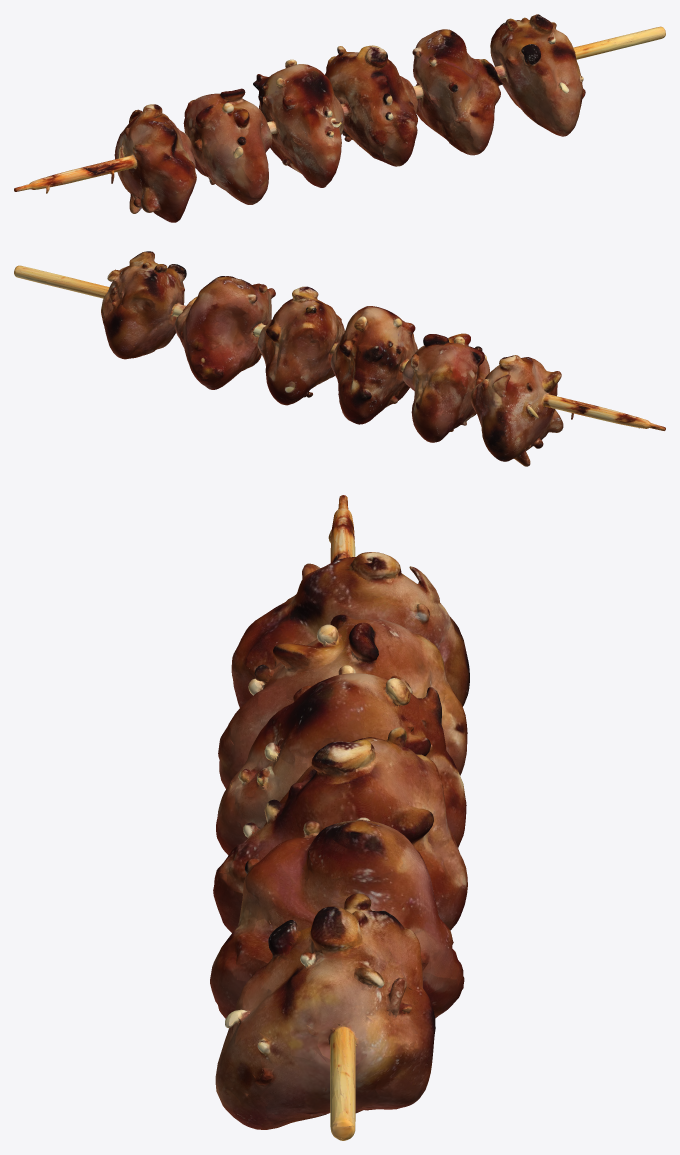
Rendered from chicken-heart-skewer.glb.
The picture shows the model from 3 angles, top to bottom: view 1: azimuth 30°, elevation 25°; view 2: azimuth 150°, elevation 25°; view 3: azimuth 270°, elevation 25°; orthographic projection. The views are drawn at different scales.
Parts seen in each view (by area): view 1: Mesh_0; view 2: Mesh_0; view 3: Mesh_0.
Boxes of the visible parts, bbox=[...] form: Mesh_0: bbox=[14, 14, 665, 222]; Mesh_0: bbox=[14, 251, 665, 466]; Mesh_0: bbox=[210, 495, 469, 1140].
Bounding box in the file's own units: 0.9995 × 0.1686 × 0.1734.
Materials: 1 (1 with a texture image).
